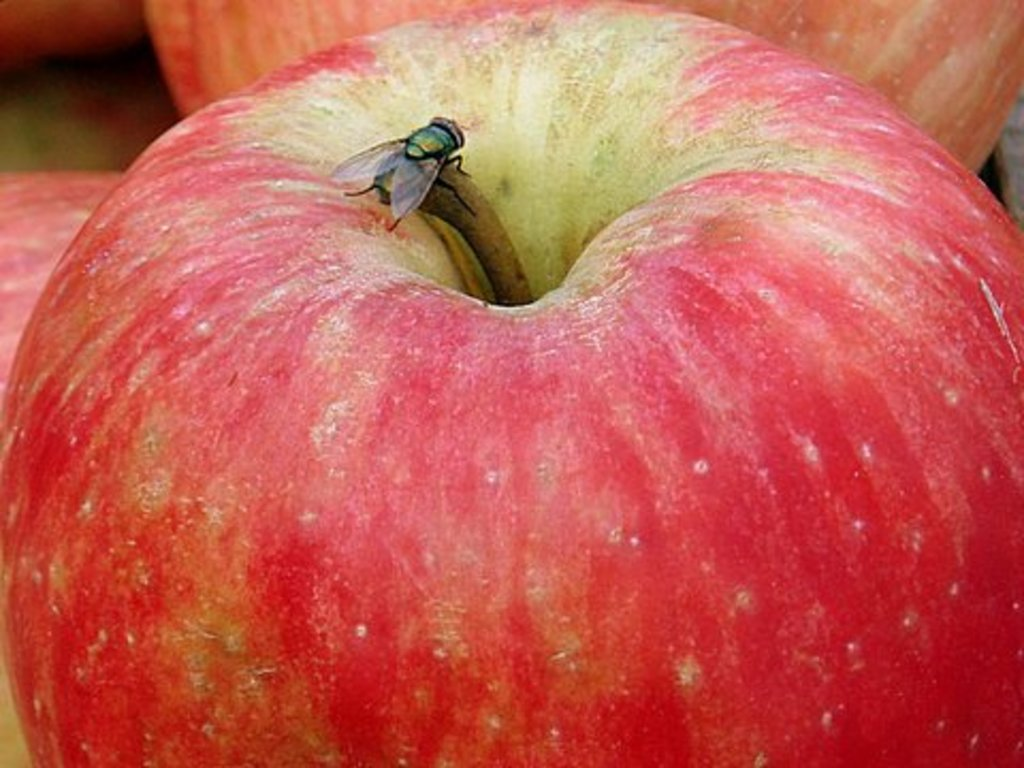Apple: (78, 0, 966, 768), (132, 0, 1021, 179), (0, 164, 134, 765), (0, 0, 153, 76)
